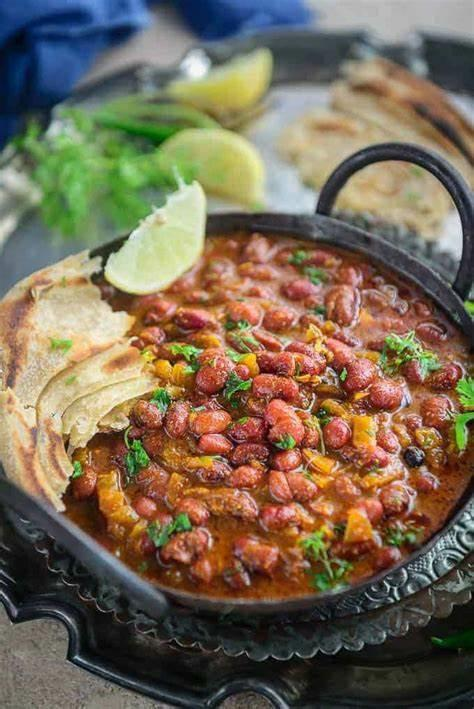RajmaCurry: (32, 238, 474, 595)
